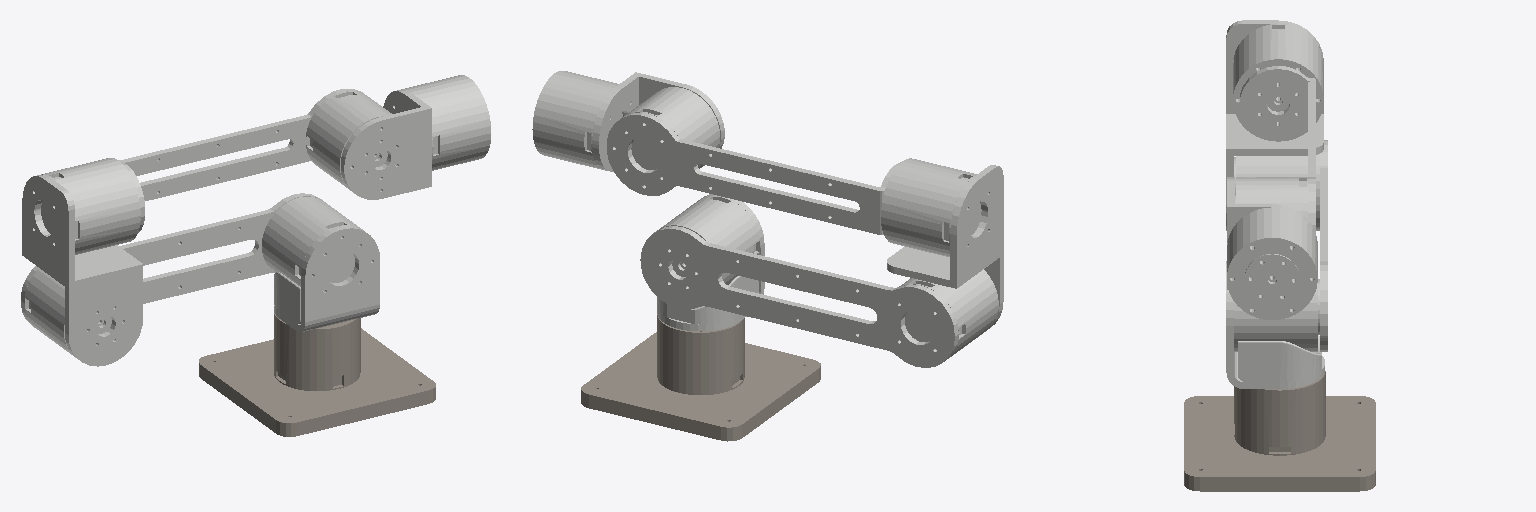
The robot description file, URDF, robot "robot_1":
<?xml version="1.0" encoding="utf-8"?>
<!-- This URDF was automatically created by SolidWorks to URDF Exporter! Originally created by Stephen Brawner (brawner@gmail.com) 
     Commit Version: 1.6.0-4-g7f85cfe  Build Version: 1.6.7995.38578
     For more information, please see http://wiki.ros.org/sw_urdf_exporter -->
<robot
  name="robot_1">
  <link
    name="base_link">
    <inertial>
      <origin
        xyz="0.0000019 0.0000116 0.0102762"
        rpy="0 0 0" />
      <mass
        value="1.4290004" />
      <inertia
        ixx=" 0.0016260"
        ixy="-4.34722623357051E-13"
        ixz="8.6780289562829E-12"
        iyy="0.0016257"
        iyz="8.0061068265197E-08"
        izz="0.0028335" />
    </inertial>
    <visual>
      <origin
        xyz="0 0 0"
        rpy="0 0 0" />
      <geometry>
        <mesh
          filename="package://robot_description/meshes/base_link.STL" />
      </geometry>
      <material
        name="">
        <color
          rgba="0.647058823529412 0.619607843137255 0.588235294117647 1" />
      </material>
    </visual>
    <collision>
      <origin
        xyz="0 0 0"
        rpy="0 0 0" />
      <geometry>
        <mesh
          filename="package://robot_description/meshes/base_link.STL" />
      </geometry>
    </collision>
  </link>
  <link
    name="link_1">
    <inertial>
      <origin
        xyz="0.0000155 -0.0071183 -0.0174916"
        rpy="0 0 0" />
      <mass
        value="0.8693372" />
      <inertia
        ixx="0.0005872"
        ixy="0.0000002"
        ixz="-0.0000002"
        iyy="0.0005860"
        iyz="0.0000373"
        izz="0.0004679" />
    </inertial>
    <visual>
      <origin
        xyz="0 0 0"
        rpy="0 0 0" />
      <geometry>
        <mesh
          filename="package://robot_description/meshes/link_1.STL" />
      </geometry>
      <material
        name="">
        <color
          rgba="0.827450980392157 0.827450980392157 0.819607843137255 1" />
      </material>
    </visual>
    <collision>
      <origin
        xyz="0 0 0"
        rpy="0 0 0" />
      <geometry>
        <mesh
          filename="package://robot_description/meshes/link_1.STL" />
      </geometry>
    </collision>
  </link>
  <joint
    name="joint_1"
    type="revolute">
    <origin
      xyz="0 0 0.0995"
      rpy="0 0 0" />
    <parent
      link="base_link" />
    <child
      link="link_1" />
    <axis
      xyz="0 0 1" />
    <limit
      lower="-3"
      upper="3"
      effort="7"
      velocity="3" />
  </joint>
  <link
    name="link_2">
    <inertial>
      <origin
        xyz="-0.1264287 0.0000000 0.0142338"
        rpy="0 0 0" />
      <mass
        value="0.7057861" />
      <inertia
        ixx="0.0003418"
        ixy="0.0000000"
        ixz="-0.0004454"
        iyy="0.0039706"
        iyz="0.0000000"
        izz="0.0039269" />
    </inertial>
    <visual>
      <origin
        xyz="0 0 0"
        rpy="0 0 0" />
      <geometry>
        <mesh
          filename="package://robot_description/meshes/link_2.STL" />
      </geometry>
      <material
        name="">
        <color
          rgba="0.827450980392157 0.827450980392157 0.819607843137255 1" />
      </material>
    </visual>
    <collision>
      <origin
        xyz="0 0 0"
        rpy="0 0 0" />
      <geometry>
        <mesh
          filename="package://robot_description/meshes/link_2.STL" />
      </geometry>
    </collision>
  </link>
  <joint
    name="joint_2"
    type="revolute">
    <origin
      xyz="0 0 0"
      rpy="-1.5708 0 0" />
    <parent
      link="link_1" />
    <child
      link="link_2" />
    <axis
      xyz="0 0 1" />
    <limit
      lower="-3"
      upper="3"
      effort="27"
      velocity="3" />
  </joint>
  <link
    name="link_3">
    <inertial>
      <origin
        xyz="-0.0040700 0.0507632 0.0058721"
        rpy="0 0 0" />
      <mass
        value="0.7424189" />
      <inertia
        ixx="0.0009330"
        ixy="0.0000455"
        ixz="-0.0000088"
        iyy="0.0004552"
        iyz="0.0001906"
        izz="0.0008993" />
    </inertial>
    <visual>
      <origin
        xyz="0 0 0"
        rpy="0 0 0" />
      <geometry>
        <mesh
          filename="package://robot_description/meshes/link_3.STL" />
      </geometry>
      <material
        name="">
        <color
          rgba="0.827450980392157 0.827450980392157 0.819607843137255 1" />
      </material>
    </visual>
    <collision>
      <origin
        xyz="0 0 0"
        rpy="0 0 0" />
      <geometry>
        <mesh
          filename="package://robot_description/meshes/link_3.STL" />
      </geometry>
    </collision>
  </link>
  <joint
    name="joint_3"
    type="revolute">
    <origin
      xyz="-0.1798 0 -0.00087243"
      rpy="-3.1416 0 0" />
    <parent
      link="link_2" />
    <child
      link="link_3" />
    <axis
      xyz="0 0 1" />
    <limit
      lower="-3"
      upper="3"
      effort="27"
      velocity="3" />
  </joint>
  <link
    name="link_4">
    <inertial>
      <origin
        xyz="0.0001993 -0.0067833 0.1533852"
        rpy="0 0 0" />
      <mass
        value="0.6182432" />
      <inertia
        ixx="0.0035123"
        ixy="0.0000000"
        ixz="0.0000000"
        iyy="0.0034891"
        iyz="-0.0000958"
        izz="0.0002445" />
    </inertial>
    <visual>
      <origin
        xyz="0 0 0"
        rpy="0 0 0" />
      <geometry>
        <mesh
          filename="package://robot_description/meshes/link_4.STL" />
      </geometry>
      <material
        name="">
        <color
          rgba="0.827450980392157 0.827450980392157 0.819607843137255 1" />
      </material>
    </visual>
    <collision>
      <origin
        xyz="0 0 0"
        rpy="0 0 0" />
      <geometry>
        <mesh
          filename="package://robot_description/meshes/link_4.STL" />
      </geometry>
    </collision>
  </link>
  <joint
    name="joint_4"
    type="revolute">
    <origin
      xyz="0.0029242 0.071801 -0.00087243"
      rpy="1.5708 0 1.5708" />
    <parent
      link="link_3" />
    <child
      link="link_4" />
    <axis
      xyz="0 0 1" />
    <limit
      lower="-3.13"
      upper="3.13"
      effort="27"
      velocity="3" />
  </joint>
  <link
    name="link_5">
    <inertial>
      <origin
        xyz="-0.0002052 -0.0415096 0.0064647"
        rpy="0 0 0" />
      <mass
        value="0.5144253" />
      <inertia
        ixx="0.0004943"
        ixy="0.0000000"
        ixz="0.0000001"
        iyy="0.0002684"
        iyz="-0.0001200"
        izz="0.00046724" />
    </inertial>
    <visual>
      <origin
        xyz="0 0 0"
        rpy="0 0 0" />
      <geometry>
        <mesh
          filename="package://robot_description/meshes/link_5.STL" />
      </geometry>
      <material
        name="">
        <color
          rgba="0.827450980392157 0.827450980392157 0.819607843137255 1" />
      </material>
    </visual>
    <collision>
      <origin
        xyz="0 0 0"
        rpy="0 0 0" />
      <geometry>
        <mesh
          filename="package://robot_description/meshes/link_5.STL" />
      </geometry>
    </collision>
  </link>
  <joint
    name="joint_5"
    type="revolute">
    <origin
      xyz="0.00019933 0.004294 0.20686"
      rpy="-1.5708 0 0" />
    <parent
      link="link_4" />
    <child
      link="link_5" />
    <axis
      xyz="0 0 1" />
    <limit
      lower="-1.57"
      upper="1.57"
      effort="7"
      velocity="3" />
  </joint>
  <link
    name="link_6">
    <inertial>
      <origin
        xyz="-0.000232281946374424 0.00100000000000076 0.0174194941529817"
        rpy="0 0 0" />
      <mass
        value="0.0102510168286635" />
      <inertia
        ixx="8.93402372982488E-07"
        ixy="1.68311598344409E-22"
        ixz="4.80788535343801E-21"
        iyy="8.93402372982488E-07"
        iyz="-7.38328161745982E-23"
        izz="1.58125115444696E-06" />
    </inertial>
    <visual>
      <origin
        xyz="0 0 0"
        rpy="0 0 0" />
      <geometry>
        <mesh
          filename="package://robot_description/meshes/link_6.STL" />
      </geometry>
      <material
        name="">
        <color
          rgba="0.827450980392157 0.827450980392157 0.819607843137255 1" />
      </material>
    </visual>
    <collision>
      <origin
        xyz="0 0 0"
        rpy="0 0 0" />
      <geometry>
        <mesh
          filename="package://robot_description/meshes/link_6.STL" />
      </geometry>
    </collision>
  </link>
  <joint
    name="joint_6"
    type="revolute">
    <origin
      xyz="0.00023228 -0.061253 -0.00048535"
      rpy="1.5708 0 0" />
    <parent
      link="link_5" />
    <child
      link="link_6" />
    <axis
      xyz="0 0 1" />
    <limit
      lower="-3"
      upper="3"
      effort="7"
      velocity="3" />
  </joint>
</robot>

--- Facts derived from the render (not from the file) ---
Views: 3 orthographic renders of the robot side by side, from view 1: azimuth 30°, elevation 25°; view 2: azimuth 150°, elevation 25°; view 3: azimuth 270°, elevation 25°.
Model robot_1 with 7 links and 6 joints (6 revolute), rooted at base_link, posed all joints at 0.
Links seen in each view (by area): view 1: link_3, base_link, link_5, link_1, link_4, link_2; view 2: link_2, base_link, link_4, link_3, link_5, link_1; view 3: base_link, link_3, link_4, link_5, link_1, link_2, link_6.
Boxes of the visible links, <box> form: link_3: <box>22,158,142,366</box>; base_link: <box>199,313,435,436</box>; link_5: <box>341,75,490,199</box>; link_1: <box>262,197,379,332</box>; link_4: <box>119,89,391,232</box>; link_2: <box>21,193,321,357</box>; link_2: <box>640,226,998,367</box>; base_link: <box>581,314,820,441</box>; link_4: <box>607,87,900,234</box>; link_3: <box>881,158,1003,328</box>; link_5: <box>532,71,724,171</box>; link_1: <box>657,194,764,330</box>; base_link: <box>1184,371,1375,491</box>; link_3: <box>1226,20,1323,230</box>; link_4: <box>1236,66,1315,232</box>; link_5: <box>1227,177,1317,319</box>; link_1: <box>1226,261,1324,388</box>; link_2: <box>1236,140,1327,351</box>; link_6: <box>1244,254,1299,304</box>.
Size in the robot's own frame: 0.3228 by 0.12 by 0.2 metres.
7 mesh visuals loaded from 7 distinct referenced files (7 binary STL).
